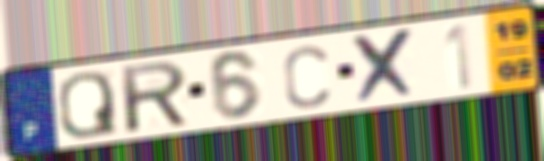1: (443, 22, 474, 89)
6: (208, 48, 266, 122)
C: (280, 43, 333, 112)
Q: (56, 69, 121, 141)
R: (116, 58, 192, 136)
X: (349, 26, 421, 107)
